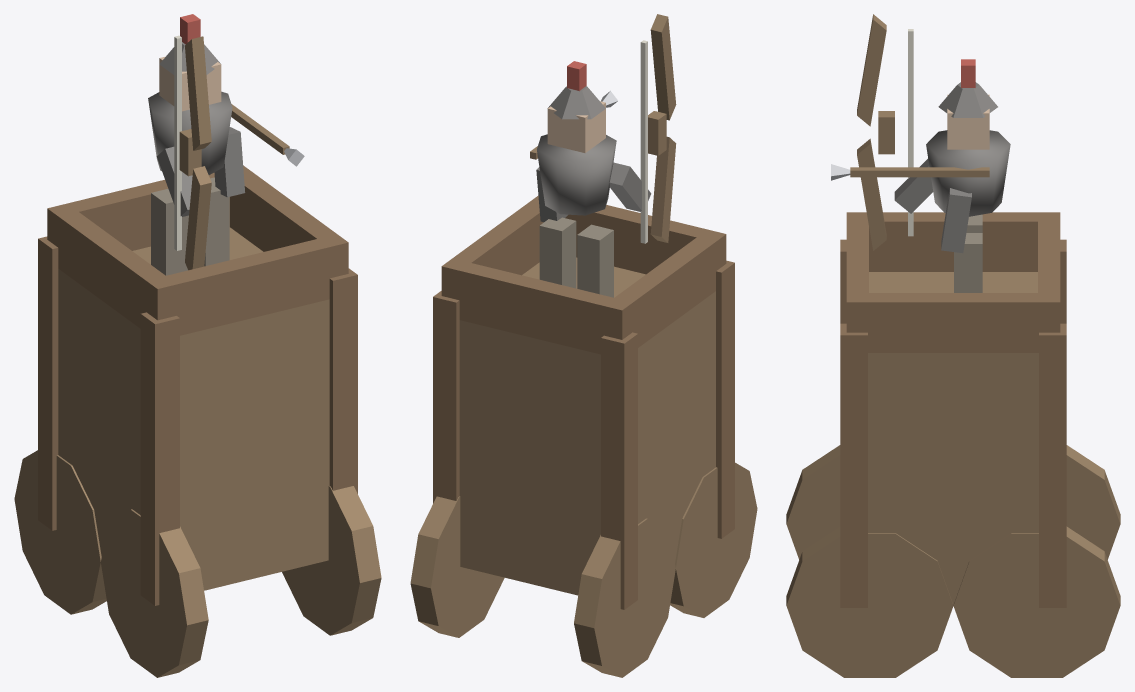
Rendered from troop-siege-tower.glb.
The picture shows the model from 3 angles, left to right: view 1: azimuth 30°, elevation 25°; view 2: azimuth 150°, elevation 25°; view 3: azimuth 270°, elevation 25°; orthographic projection. The views are drawn at different scales.
Parts seen in each view (by area): view 1: body, wheel_fl, parapet_1, post_-1_-1, wheel_bl, wheel_fr, parapet_3, post_1_-1, post_-1_1, parapet_2, parapet_0, tower_archer (+11 smaller); view 2: body, wheel_bl, parapet_0, post_-1_1, wheel_fl, wheel_br, parapet_3, post_1_1, post_-1_-1, tower_archer, parapet_1, parapet_2 (+10 smaller); view 3: body, wheel_br, wheel_fr, parapet_2, parapet_3, post_1_-1, post_1_1, tower_archer, wheel_bl, wheel_fl, parapet_0, parapet_1 (+12 smaller).
Part boxes in pixels (box(x1,y1,x2,y2)): body: box(58, 227, 329, 590); wheel_fl: box(100, 509, 208, 677); parapet_1: box(146, 239, 348, 335); post_-1_-1: box(140, 312, 179, 605); wheel_bl: box(14, 450, 106, 614); wheel_fr: box(282, 486, 381, 635); parapet_3: box(50, 208, 177, 328); post_1_-1: box(329, 268, 357, 493); post_-1_1: box(38, 236, 58, 530); parapet_2: box(230, 166, 348, 274); parapet_0: box(47, 165, 244, 268); tower_archer: box(148, 91, 232, 174); body: box(459, 257, 715, 595); wheel_bl: box(574, 518, 675, 677); parapet_0: box(442, 262, 632, 354); post_-1_1: box(601, 332, 637, 609); wheel_fl: box(670, 462, 757, 617); wheel_br: box(410, 496, 504, 637); parapet_3: box(604, 235, 724, 347); post_1_1: box(433, 291, 459, 503); post_-1_-1: box(716, 260, 734, 538); tower_archer: box(537, 134, 616, 215); parapet_1: box(565, 205, 726, 274); parapet_2: box(441, 196, 543, 309); body: box(868, 272, 1038, 604); wheel_br: box(953, 526, 1120, 677); wheel_fr: box(786, 526, 953, 677); parapet_2: box(846, 293, 1060, 352); parapet_3: box(846, 212, 1060, 271); post_1_-1: box(840, 323, 867, 607); post_1_1: box(1039, 323, 1066, 607); tower_archer: box(926, 130, 1010, 216); wheel_bl: box(1066, 445, 1120, 559); wheel_fl: box(786, 445, 840, 559); parapet_0: box(1038, 212, 1060, 352); parapet_1: box(846, 212, 868, 352).
Bounding box in the file's own units: 0.122 × 0.3541 × 0.18.
